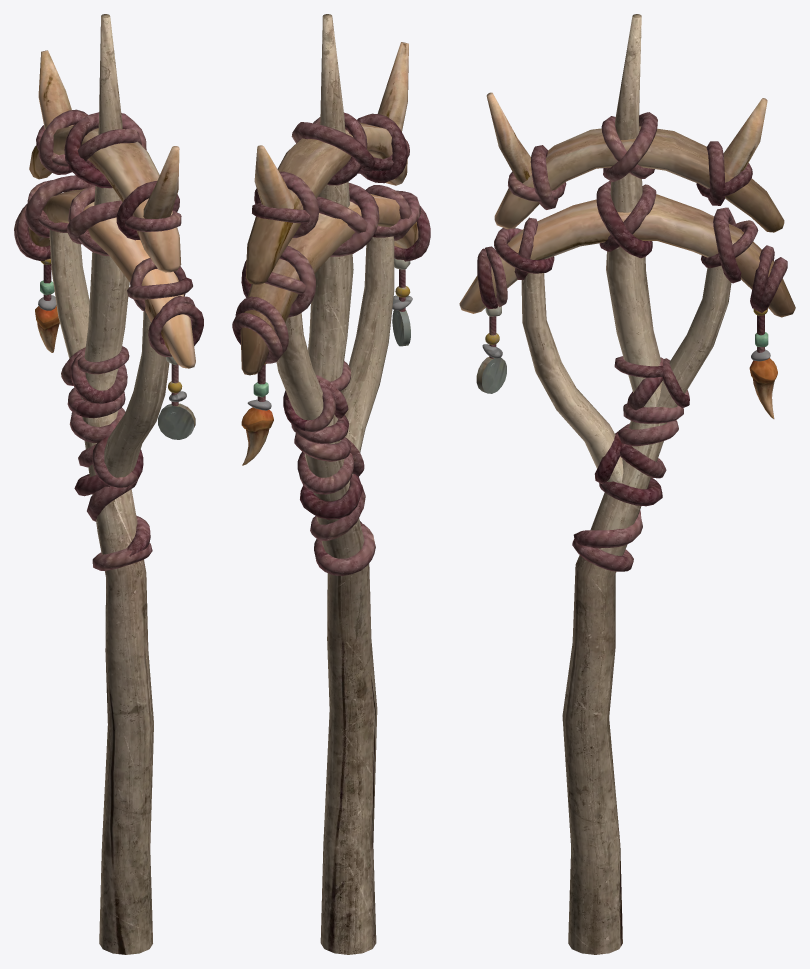
3 renders of one model, left to right at view 1: azimuth 30°, elevation 25°; view 2: azimuth 150°, elevation 25°; view 3: azimuth 270°, elevation 25°, orthographic. The views are drawn at different scales.
Parts seen in each view (by area): view 1: SM_Garou_Trophy_01v2_LOD0; view 2: SM_Garou_Trophy_01v2_LOD0; view 3: SM_Garou_Trophy_01v2_LOD0.
Part boxes in pixels (left/top/right/bottom): SM_Garou_Trophy_01v2_LOD0: left=14, top=14, right=203, bottom=954; SM_Garou_Trophy_01v2_LOD0: left=232, top=14, right=430, bottom=954; SM_Garou_Trophy_01v2_LOD0: left=459, top=14, right=795, bottom=954.
Bounding box in the file's own units: 0.3052 × 3.23 × 1.06.
Materials: 1 (1 with a texture image).
